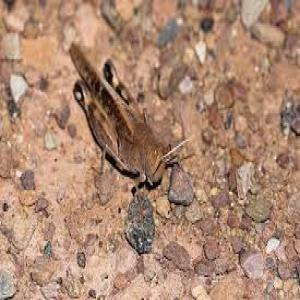locust: (66, 29, 178, 232)
